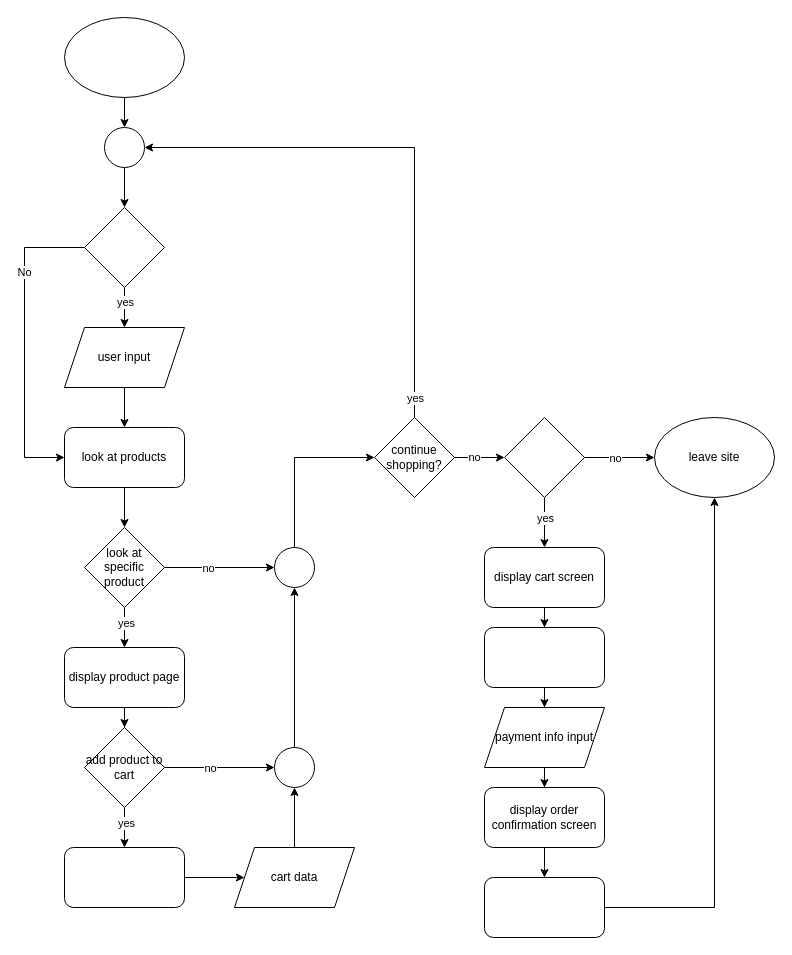
Some shapes in this 792 by 955 pixel diagram are drawn without their labels. Each missing label, with the centre of its shape:
checkout?: the point at 544,457
display cart payment screen: the point at 544,657
Enter site: the point at 124,57
search for product: the point at 124,247
send order confirmation email: the point at 544,907
update cart: the point at 124,877
